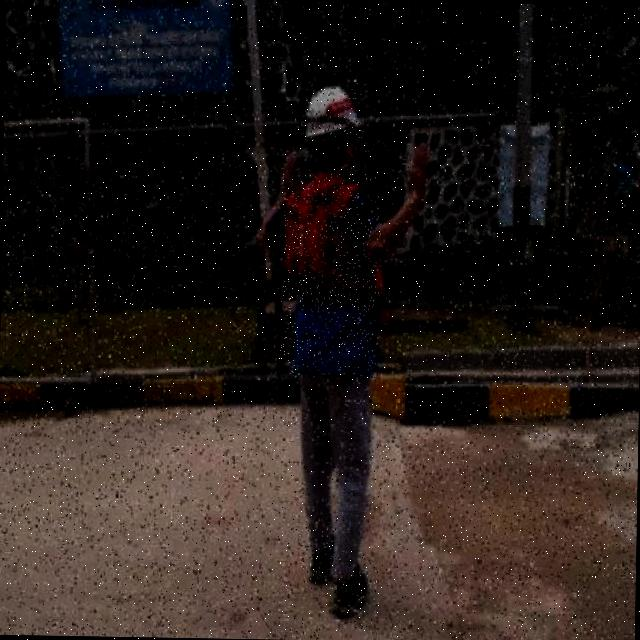helmet: (296, 72, 368, 176), (304, 80, 366, 142)
no-boots: (324, 558, 380, 631), (298, 526, 336, 584)
vest: (278, 172, 384, 378)
